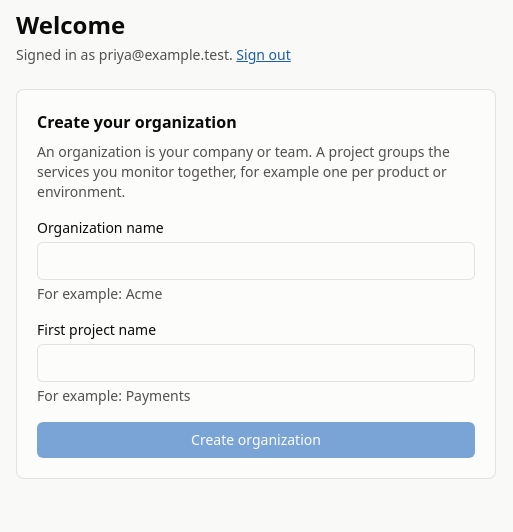
Test: OnboardingPage › shows the server's reason when creation fails
Step 1. Type "Acme" into the field labelled "Organization name" → (256, 261), box [37, 242, 475, 280]
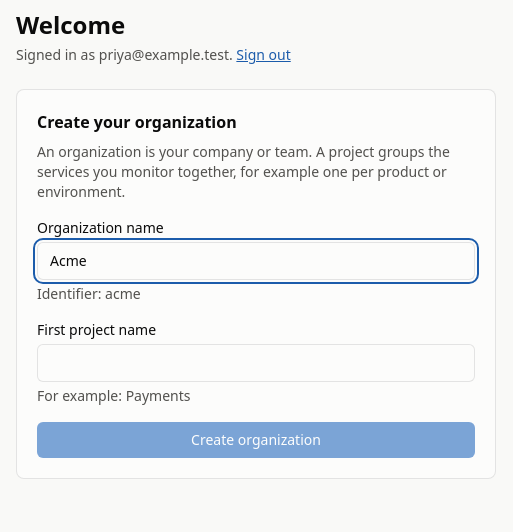
Step 2. Type "Payments" into the field labelled "First project name" → (256, 363), box [37, 344, 475, 382]
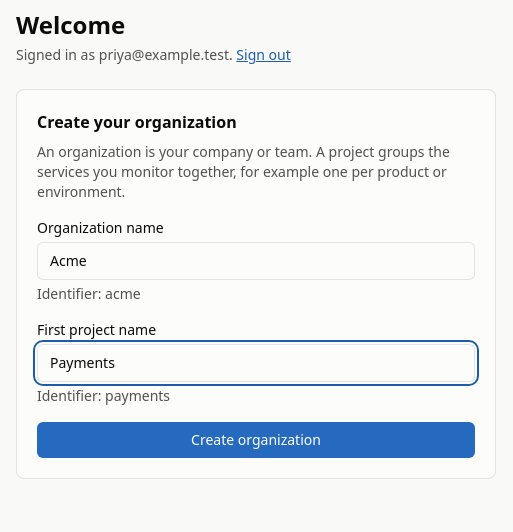
Step 3. Click the button "Create organization" → (256, 440), box [37, 422, 475, 458]
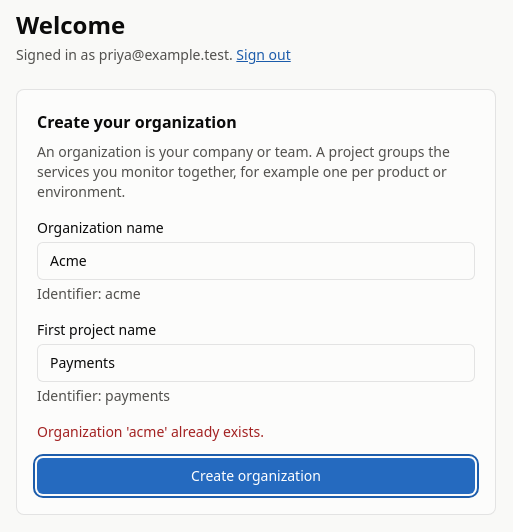
Expected: the message reads "Organization 'acme' already exists.", [37, 422, 264, 441]
